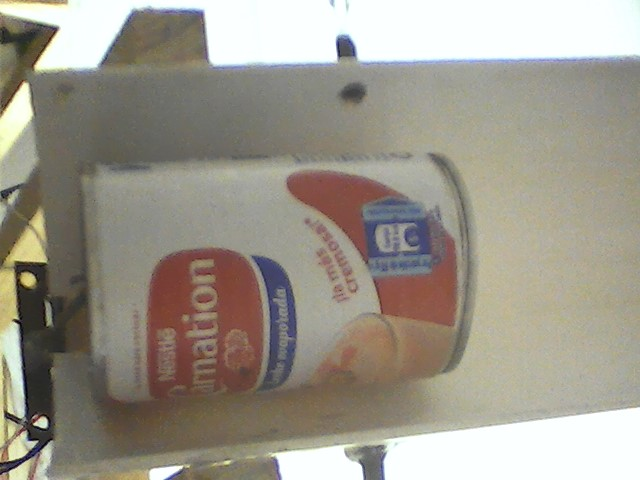lata: (70, 146, 488, 407)
